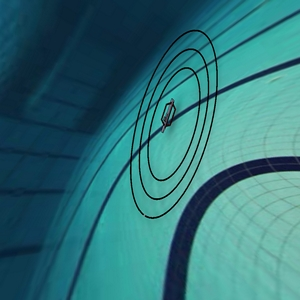circle: (103, 20, 251, 225)
submarine: (154, 96, 186, 143)
